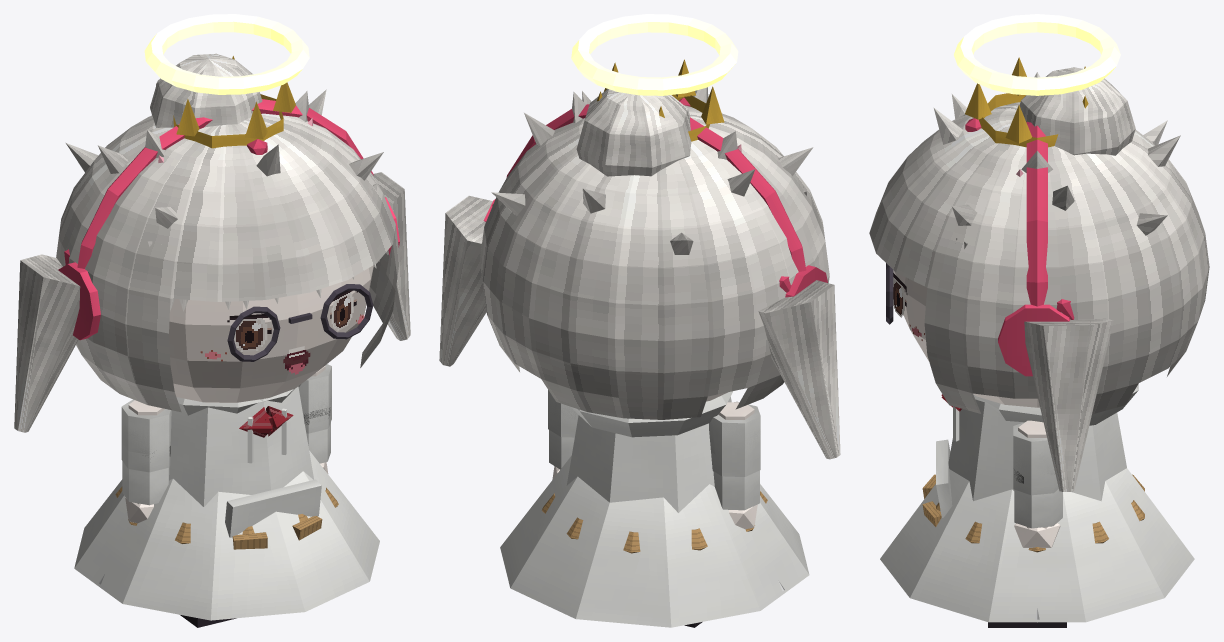
The model's file is metabooth_avatar.glb.
3 views of the same model, side by side, from view 1: azimuth 30°, elevation 25°; view 2: azimuth 150°, elevation 25°; view 3: azimuth 270°, elevation 25° (orthographic).
Parts seen in each view (by area): view 1: hair_3, outfit_2_lower_skirt, body_head, outfit_0_torso, hair_1_tail_R, acc_5_halo, hair_4_bun, acc_4_band, outfit_1_pocket, hair_1_tail_L, outfit_1_arm_R, acc_4_cup_R (+14 smaller); view 2: hair_3, outfit_2_lower_skirt, outfit_0_torso, hair_1_tail_R, hair_4_bun, acc_5_halo, hair_1_tail_L, acc_4_band, outfit_1_hood, outfit_1_arm_R, outfit_1_forearm_R, outfit_3_sweater (+5 smaller); view 3: hair_3, outfit_2_lower_skirt, hair_1_tail_L, outfit_0_torso, acc_5_halo, hair_4_bun, acc_4_band, acc_4_cup_L, body_head, outfit_0_arm_L, outfit_1_forearm_L, outfit_1_arm_L (+10 smaller).
Part boxes in pixels (box(x1,y1,x2,y2)): hair_3: box(56, 113, 399, 412); outfit_2_lower_skirt: box(74, 450, 379, 620); body_head: box(169, 266, 373, 402); outfit_0_torso: box(169, 386, 313, 506); hair_1_tail_R: box(14, 254, 80, 432); acc_5_halo: box(144, 14, 309, 94); hair_4_bun: box(150, 53, 262, 127); acc_4_band: box(77, 99, 373, 268); outfit_1_pocket: box(225, 479, 321, 537); hair_1_tail_L: box(373, 172, 410, 340); outfit_1_arm_R: box(121, 410, 170, 472); acc_4_cup_R: box(58, 262, 100, 340); hair_3: box(480, 105, 829, 419); outfit_2_lower_skirt: box(500, 456, 809, 627); outfit_0_torso: box(566, 397, 731, 512); hair_1_tail_R: box(758, 280, 840, 459); hair_4_bun: box(576, 89, 691, 176); acc_5_halo: box(571, 14, 738, 95); hair_1_tail_L: box(439, 195, 492, 366); acc_4_band: box(506, 104, 806, 271); outfit_1_hood: box(571, 391, 733, 437); outfit_1_arm_R: box(711, 417, 760, 476); outfit_1_forearm_R: box(713, 470, 759, 510); outfit_3_sweater: box(542, 491, 767, 553); hair_3: box(869, 102, 1209, 414); outfit_2_lower_skirt: box(880, 468, 1194, 622); hair_1_tail_L: box(1024, 318, 1113, 491); outfit_0_torso: box(948, 399, 1126, 501); acc_5_halo: box(954, 14, 1120, 95); hair_4_bun: box(1019, 67, 1135, 155); acc_4_band: box(1026, 121, 1047, 306); acc_4_cup_L: box(998, 304, 1069, 376); body_head: box(893, 270, 1039, 407); outfit_0_arm_L: box(1013, 436, 1056, 486); outfit_1_forearm_L: box(1014, 489, 1062, 528); outfit_1_arm_L: box(1013, 436, 1058, 495).
Bounding box in the file's own units: 1.86 × 2.49 × 1.38.
27 materials, 23 textured.
